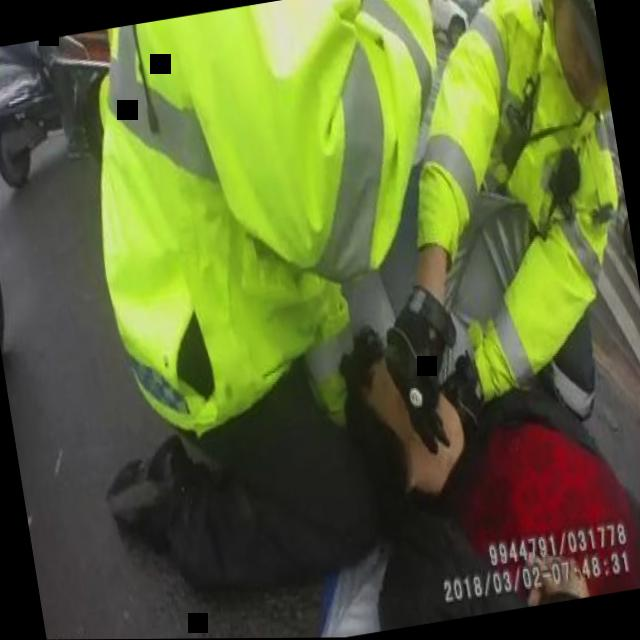Fall-Detected: (319, 216, 640, 633)
